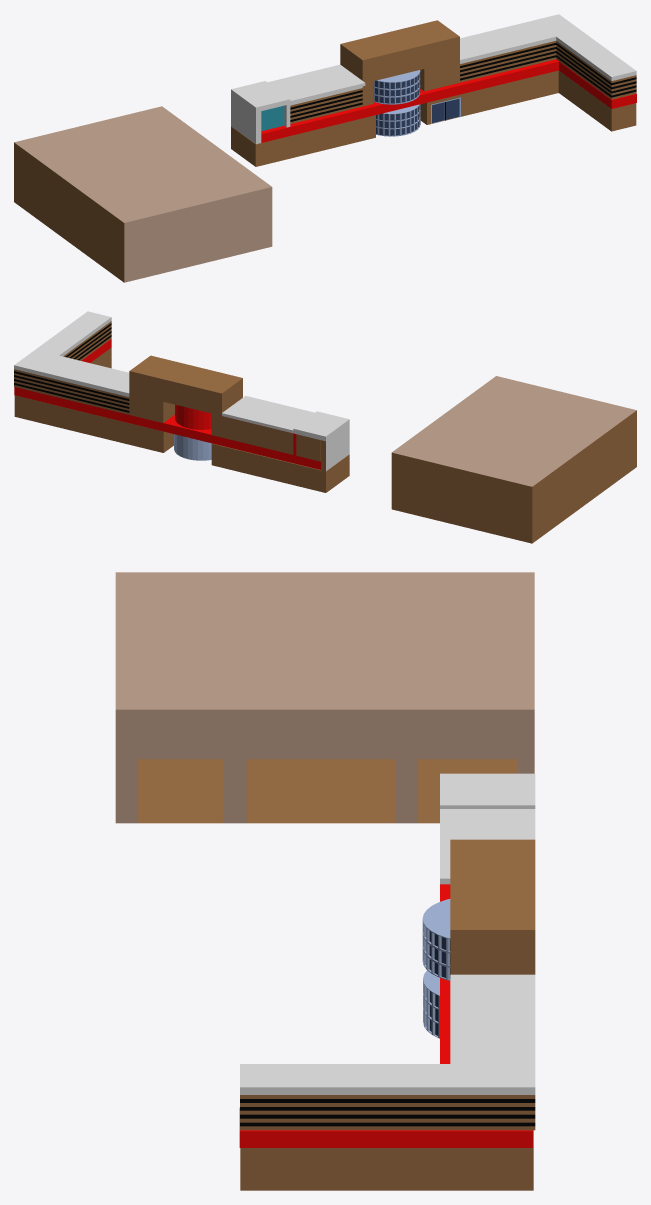
Rendered from hebGM.fbx.
3 renders of one model, top to bottom at view 1: azimuth 30°, elevation 25°; view 2: azimuth 150°, elevation 25°; view 3: azimuth 270°, elevation 25°, orthographic. The views are drawn at different scales.
Parts seen in each view (by area): view 1: Cube.001, Cube, Cube.002, Cylinder; view 2: Cube.001, Cube, Cube.002, Cylinder; view 3: Cube.001, Cube, Cylinder.
Part boxes in pixels (x1,y1,x2,y2): Cube.001: (14,70,636,282); Cube: (231,14,636,144); Cube.002: (231,115,375,166); Cylinder: (376,104,420,136); Cube.001: (14,347,636,543); Cube: (14,311,349,471); Cube.002: (211,443,349,492); Cylinder: (174,434,211,460); Cube.001: (115,572,534,1190); Cube: (239,773,535,1147); Cylinder: (423,970,439,1038).
Bounding box in the file's own units: 12843 × 1764 × 4501.
